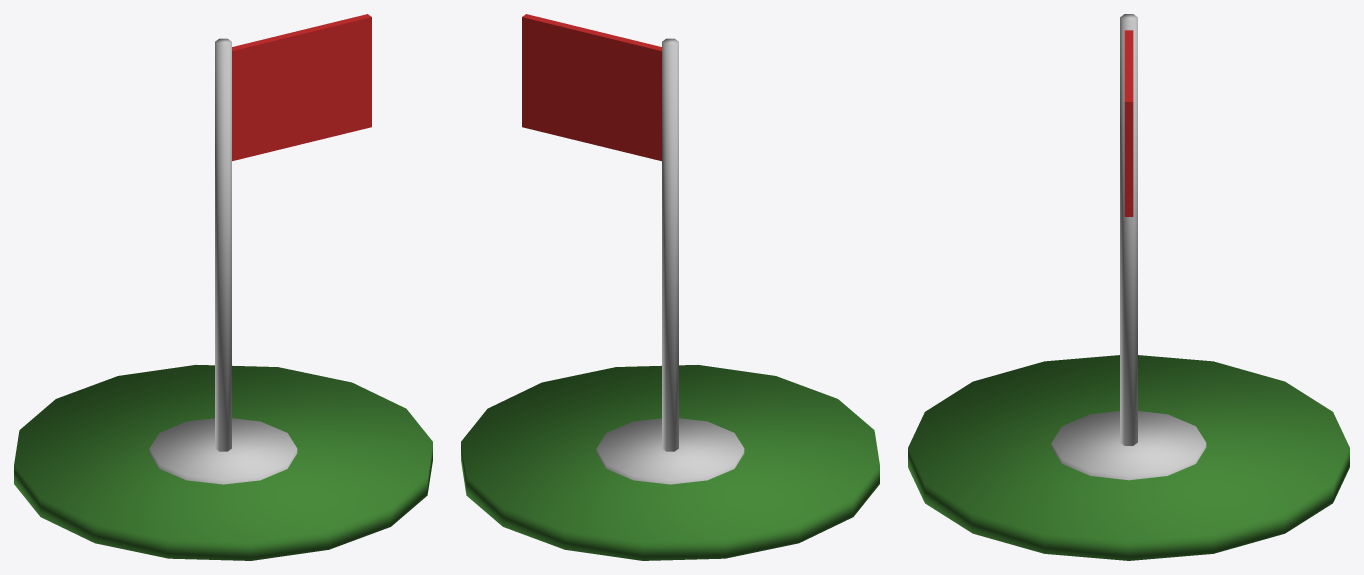
The model's file is golf_cup_v0.glb.
3 views of the same model, side by side, from view 1: azimuth 30°, elevation 25°; view 2: azimuth 150°, elevation 25°; view 3: azimuth 270°, elevation 25° (orthographic). The views are drawn at different scales.
Parts seen in each view (by area): view 1: golf_cup_v0; view 2: golf_cup_v0; view 3: golf_cup_v0.
Part boxes in pixels (left/top/right/bottom): golf_cup_v0: left=14, top=14, right=432, bottom=560; golf_cup_v0: left=461, top=14, right=879, bottom=560; golf_cup_v0: left=908, top=14, right=1349, bottom=560.
Size of the model in its own units: 0.4 by 0.45 by 0.4.
